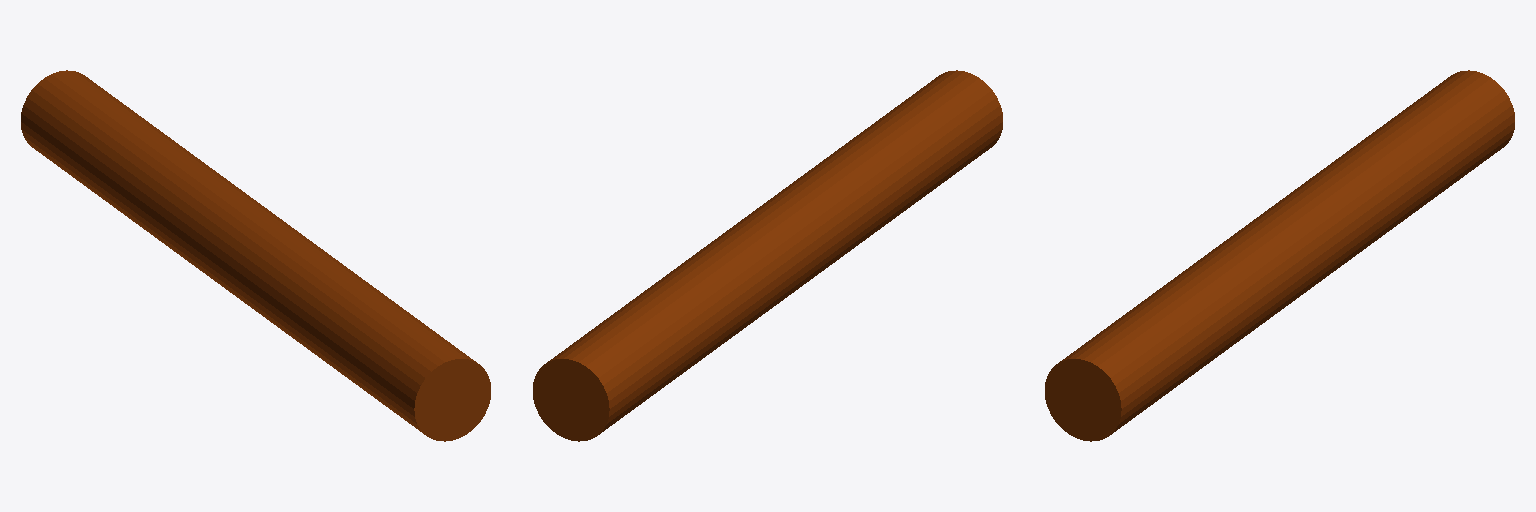
The robot description file, URDF, robot "cylinder":
<?xml version="1.0" ?>
<!-- =================================================================================== -->
<!-- |    This document was autogenerated by xacro from cylinder.xacro                 | -->
<!-- |    EDITING THIS FILE BY HAND IS NOT RECOMMENDED                                 | -->
<!-- =================================================================================== -->
<robot name="cylinder">
  <link name="world"/>
  <link name="base">
    <visual>
      <origin rpy="1.57079633 0 0" xyz="0 0 0"/>
      <geometry>
        <cylinder length="7.07106781185" radius="0.4"/>
      </geometry>
      <material name="cylinder_material">
        <color rgba="0.545 0.271 0.075 1.0"/>
        <texture filename="../textures/tree_bark.jpg"/>
      </material>
    </visual>
    <collision>
      <origin rpy="1.57079633 0 0" xyz="0 0 0"/>
      <geometry>
        <cylinder length="7.07106781185" radius="0.4"/>
      </geometry>
    </collision>
    <inertial>
      <origin rpy="0 0 0" xyz="0 0 0"/>
      <mass value="1"/>
      <inertia ixx="4.206666666648428" ixy="0.0" ixz="0.0" iyy="4.206666666648428" iyz="0.0" izz="24.999999999890573"/>
    </inertial>
  </link>
  <joint name="base_joint" type="fixed">
    <parent link="world"/>
    <child link="base"/>
    <origin rpy="0 0 0" xyz="0.0 0.0 0.0"/>
  </joint>
</robot>

--- Facts derived from the render (not from the file) ---
Views: 3 orthographic renders of the robot side by side, from view 1: azimuth 30°, elevation 25°; view 2: azimuth 150°, elevation 25°; view 3: azimuth 330°, elevation 25°.
Model cylinder with 2 links and 1 joints (1 fixed), rooted at world, posed every joint at zero.
Visible links, largest first — view 1: base; view 2: base; view 3: base.
Boxes of the visible links, x1=… form: base: x1=21, y1=70, x2=490, y2=441; base: x1=533, y1=70, x2=1002, y2=441; base: x1=1045, y1=70, x2=1514, y2=441.
Size in the robot's own frame: 0.8 by 7.07 by 0.8 metres.
Geometry: primitives only (box / cylinder / sphere), no mesh files.
